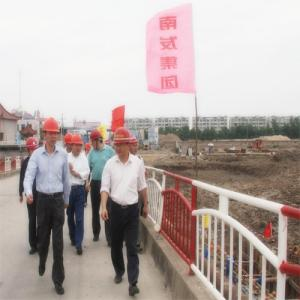red: (43, 117, 61, 148), (113, 128, 132, 157), (90, 130, 103, 150), (72, 134, 84, 154), (26, 138, 40, 155), (130, 136, 140, 157), (64, 133, 73, 150), (84, 143, 92, 154)
